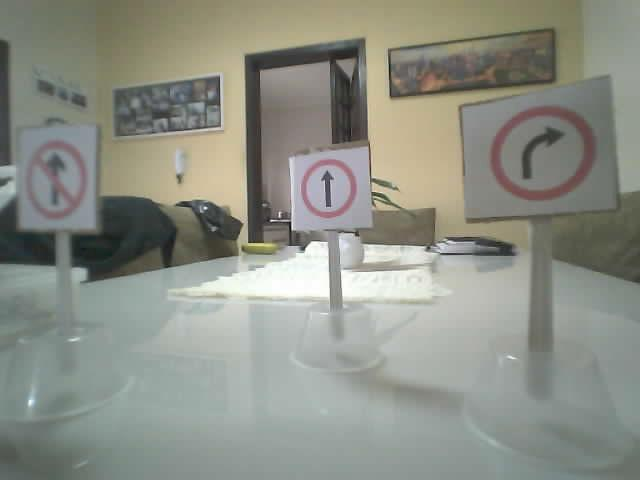R-25b_direita: (488, 105, 594, 200)
R-26_frente: (301, 157, 356, 218)
R-3_sentido-proibido: (26, 139, 87, 220)
